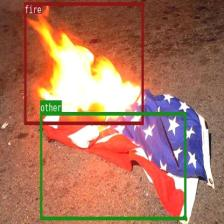fire: (24, 2, 143, 124)
